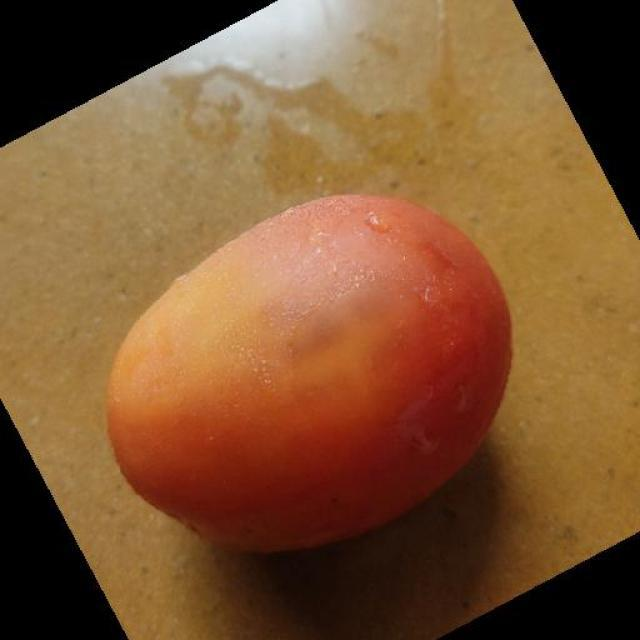Fresh Tomato: (72, 179, 532, 584)
